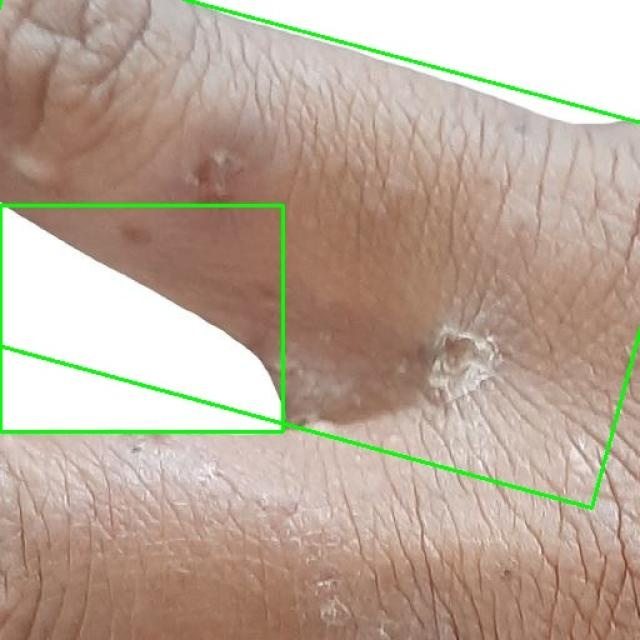Scabies: (0, 0, 640, 509), (0, 205, 282, 431)
